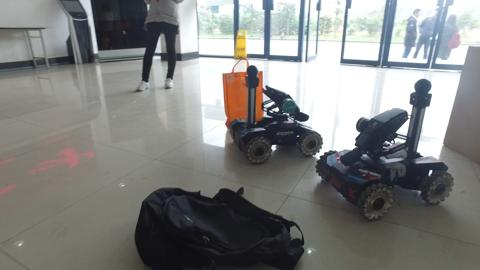chariot: (317, 77, 455, 222), (236, 66, 325, 159)
